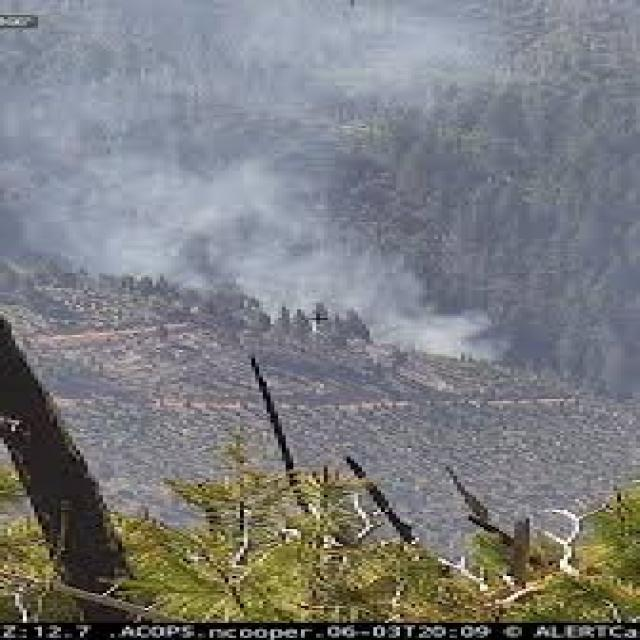Smoke: (69, 162, 538, 368)
